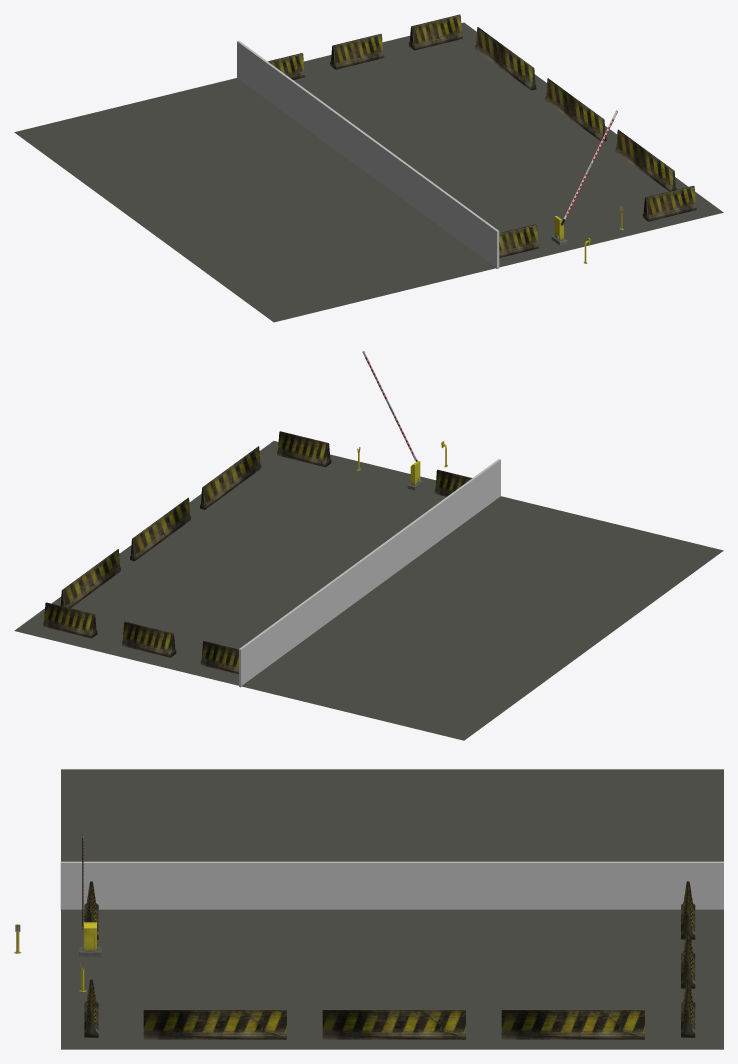
The model's file is stage4_start_floor_objects.obj.
3 views of the same model, one above another, from view 1: azimuth 30°, elevation 25°; view 2: azimuth 150°, elevation 25°; view 3: azimuth 270°, elevation 25° (orthographic). The views are drawn at different scales.
Bounding box in the file's own units: 100 × 25.69 × 107.
